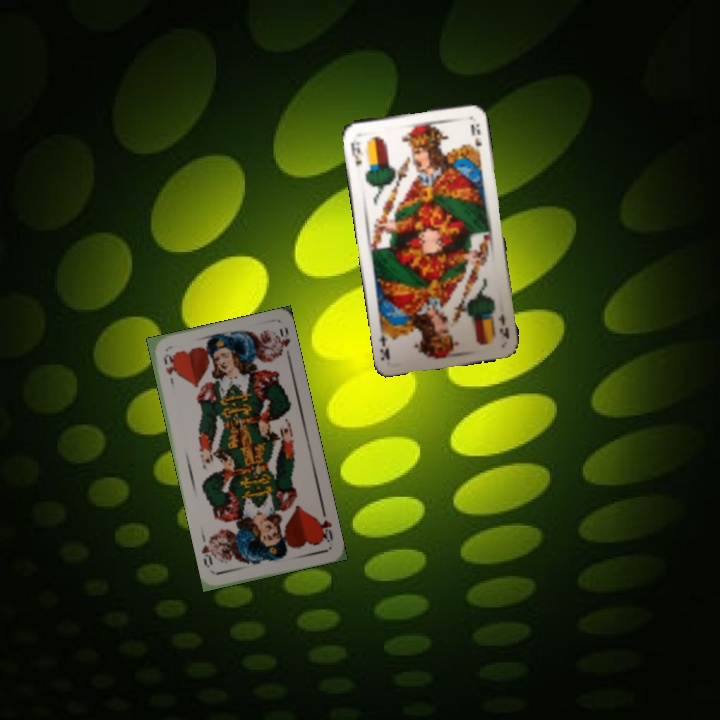EK: (346, 134, 364, 169), (494, 310, 512, 341)
HO: (314, 506, 336, 545), (159, 350, 177, 389)
